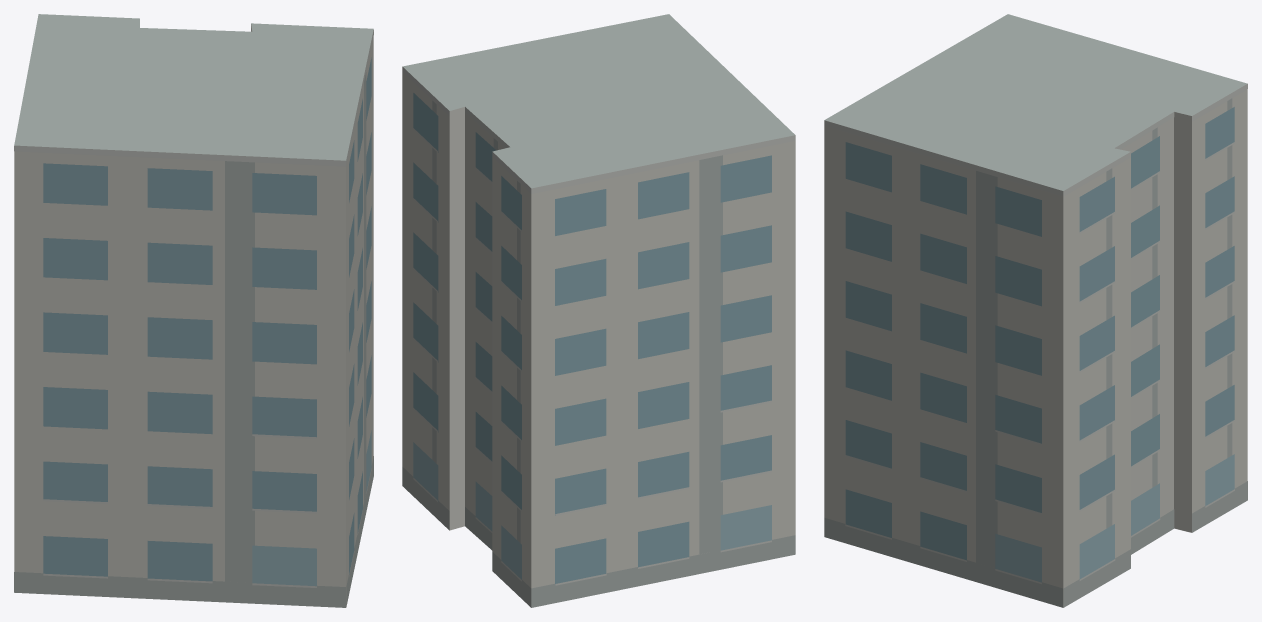
File: survey-upis-32772898.glb
The picture shows the model from 3 angles, left to right: view 1: azimuth 30°, elevation 25°; view 2: azimuth 150°, elevation 25°; view 3: azimuth 270°, elevation 25°; orthographic projection. The views are drawn at different scales.
Visible parts, largest first — view 1: survey-upis-32772898.tmp; view 2: survey-upis-32772898.tmp; view 3: survey-upis-32772898.tmp.
Boxes of the visible parts, left/top/right/bottom form: survey-upis-32772898.tmp: left=14, top=14, right=373, bottom=607; survey-upis-32772898.tmp: left=402, top=14, right=795, bottom=607; survey-upis-32772898.tmp: left=824, top=14, right=1247, bottom=607.
Bounding box in the file's own units: 16.87 × 18.5 × 17.05.
